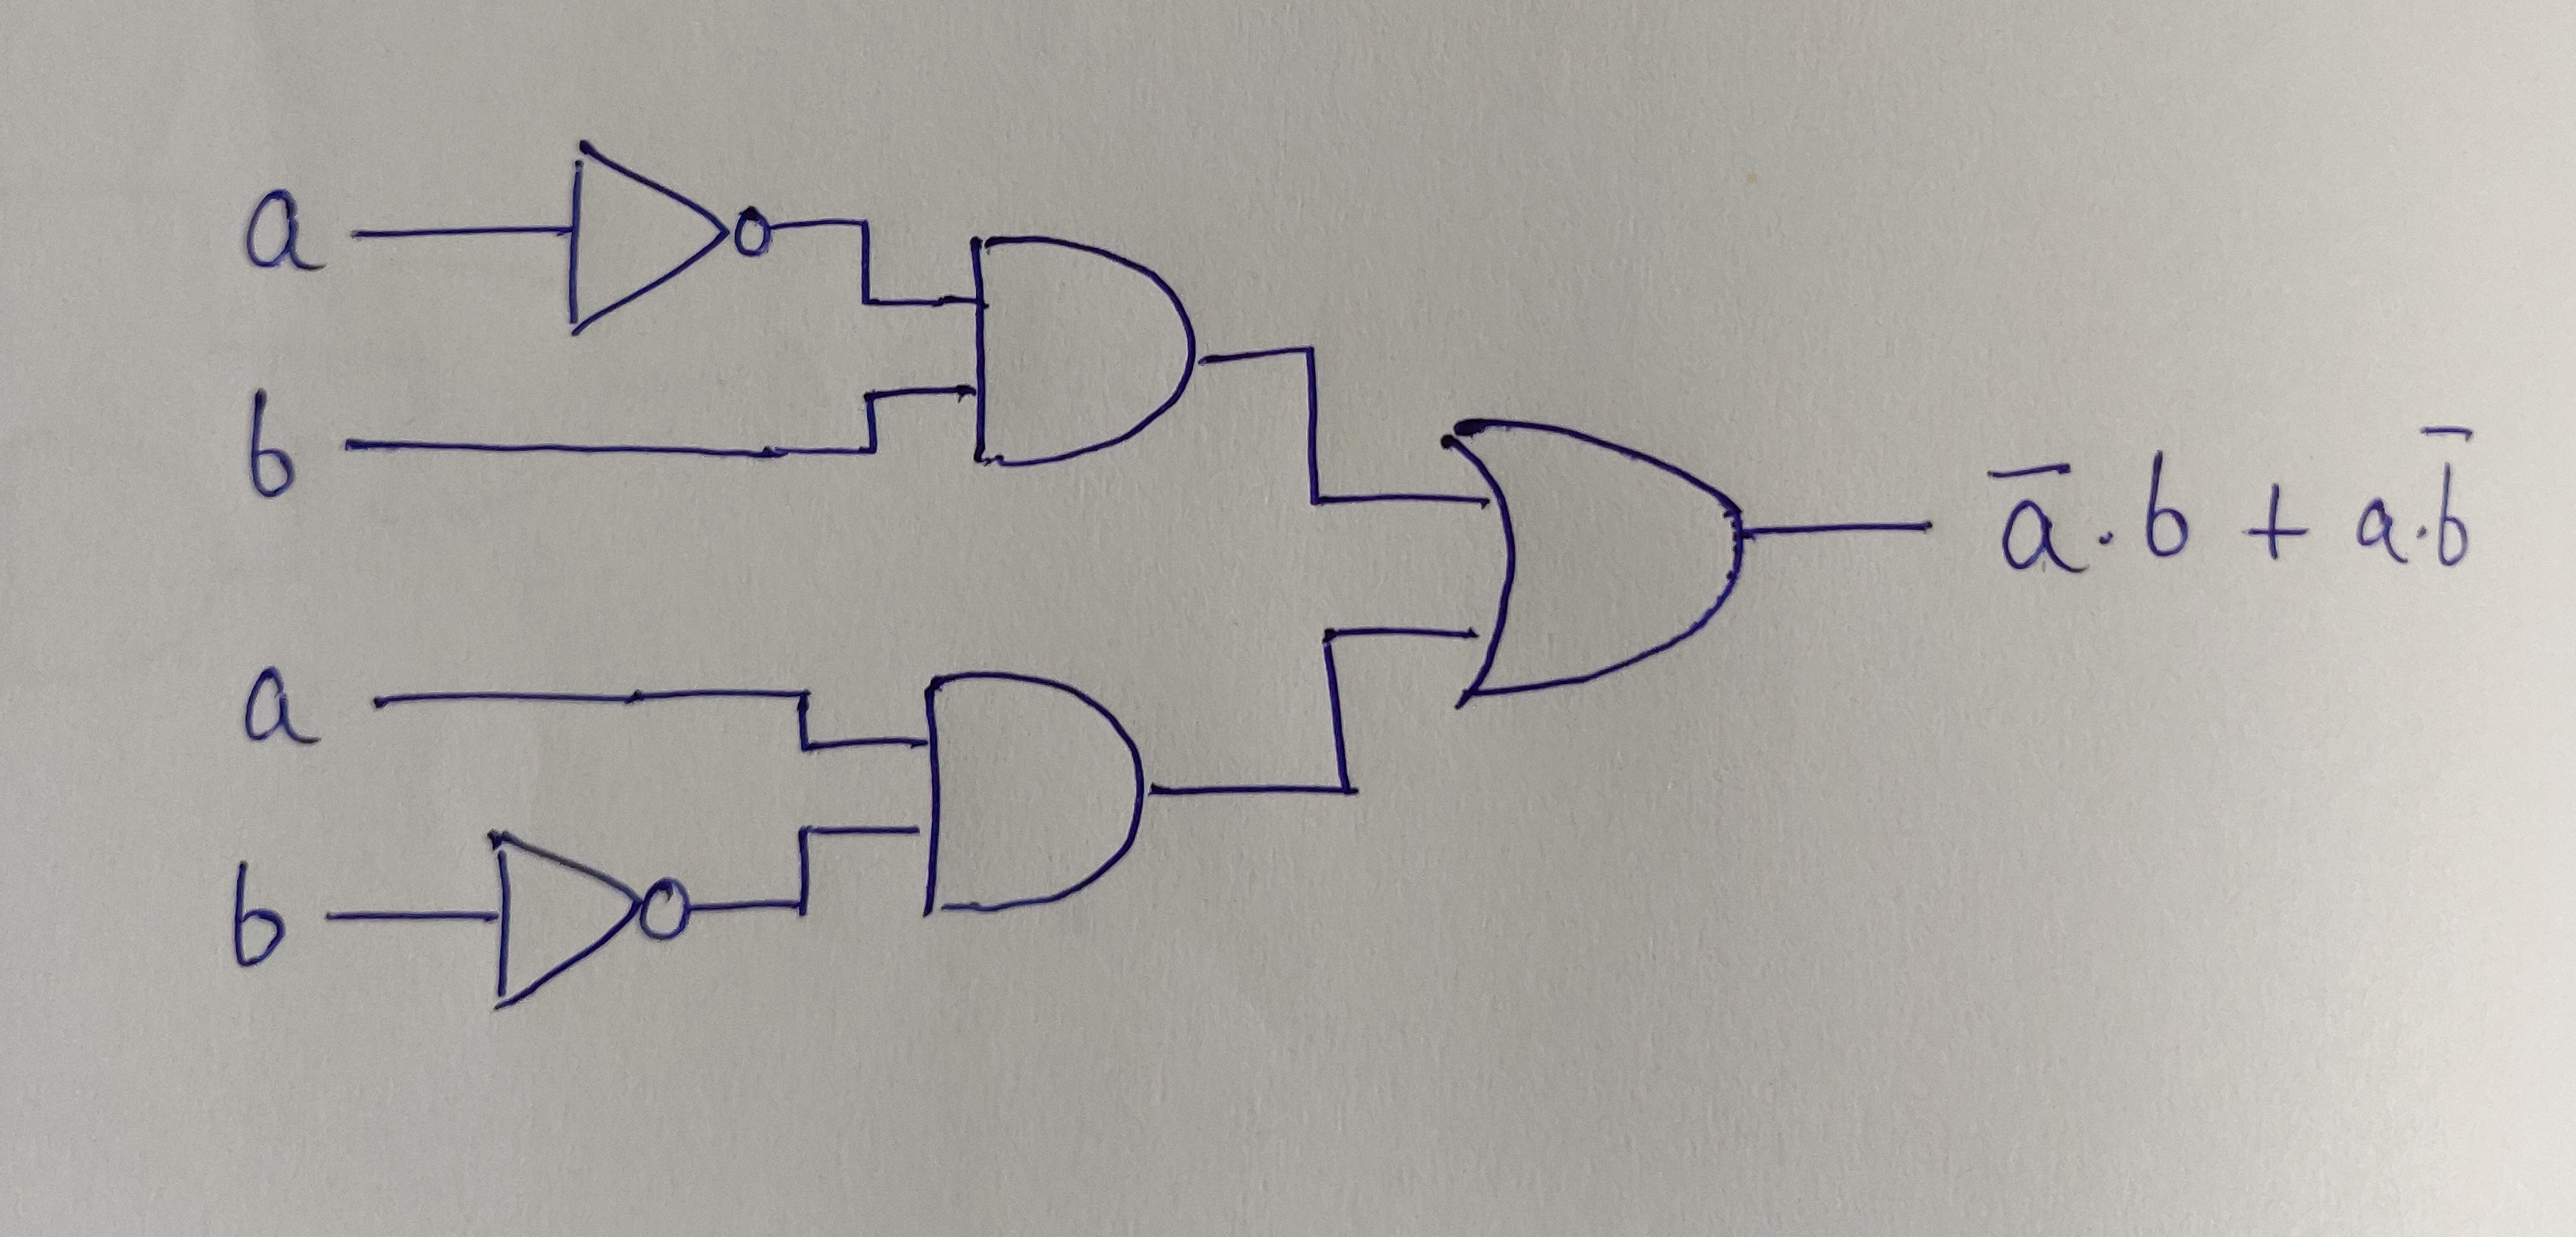and: (935, 202, 1219, 498), (887, 644, 1165, 945)
not: (527, 107, 798, 343), (470, 795, 723, 1032)
or: (1411, 381, 1805, 713)
